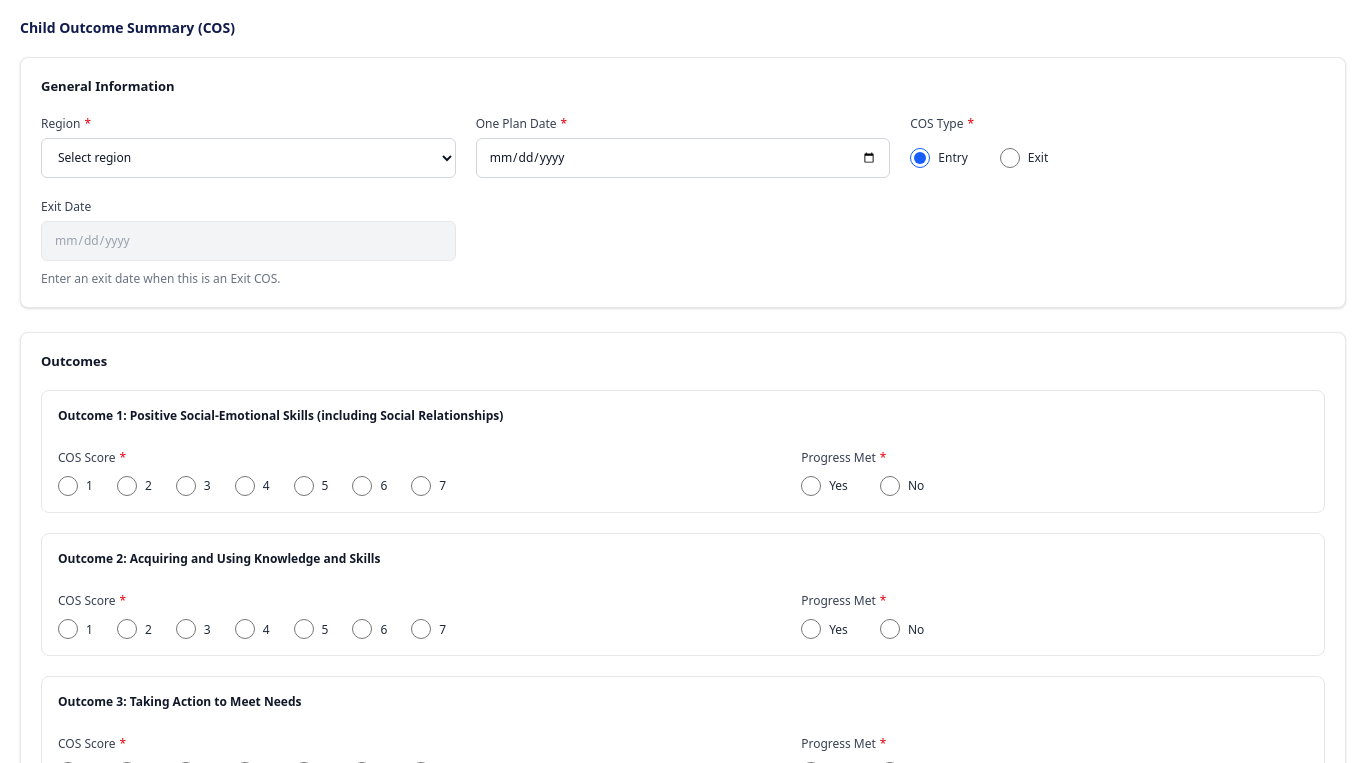
Scenario: enables Exit Date when Exit is selected
Click the radio button labelled "Exit" at (1010, 158), box [1000,148,1020,168]
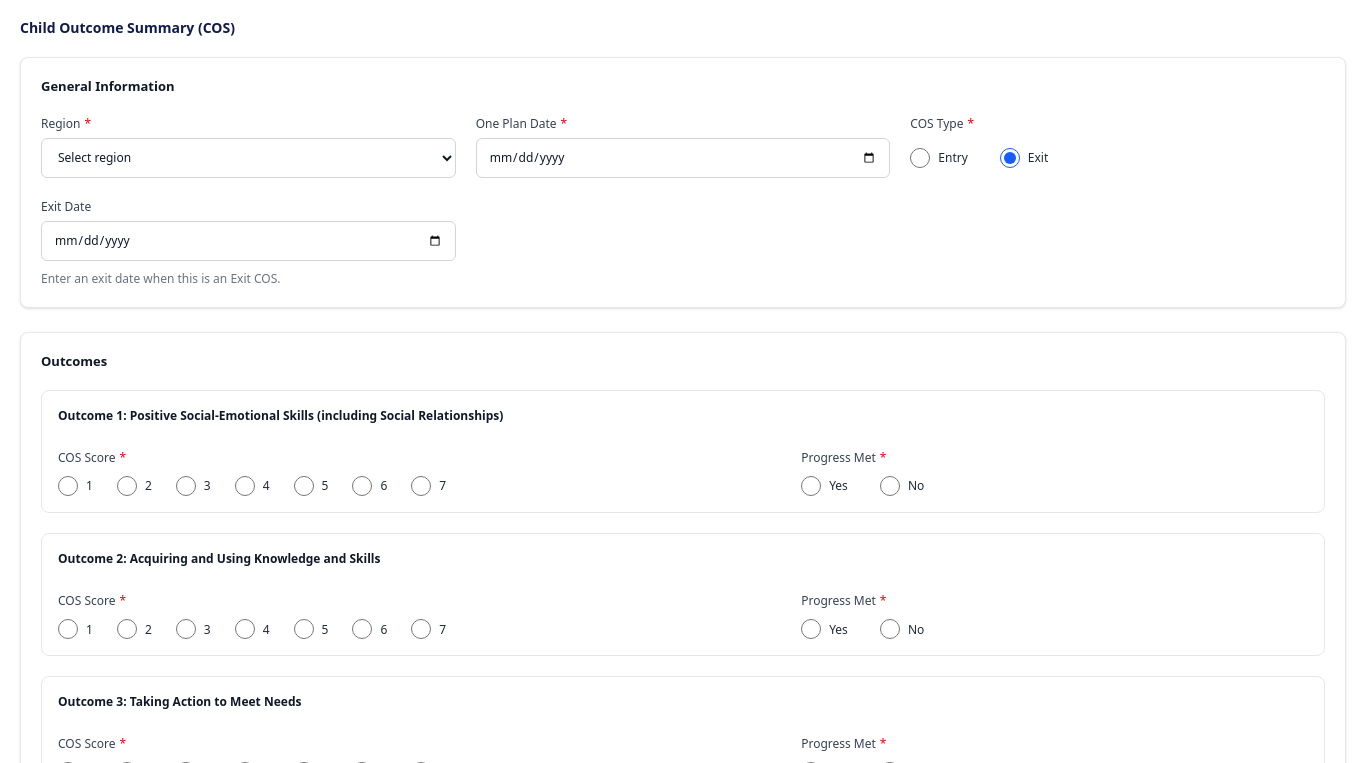
Expected: the radio button labelled "Exit" is checked, [1000,148,1020,168]
Expected: the 2nd date field is enabled, [41,221,456,261]
